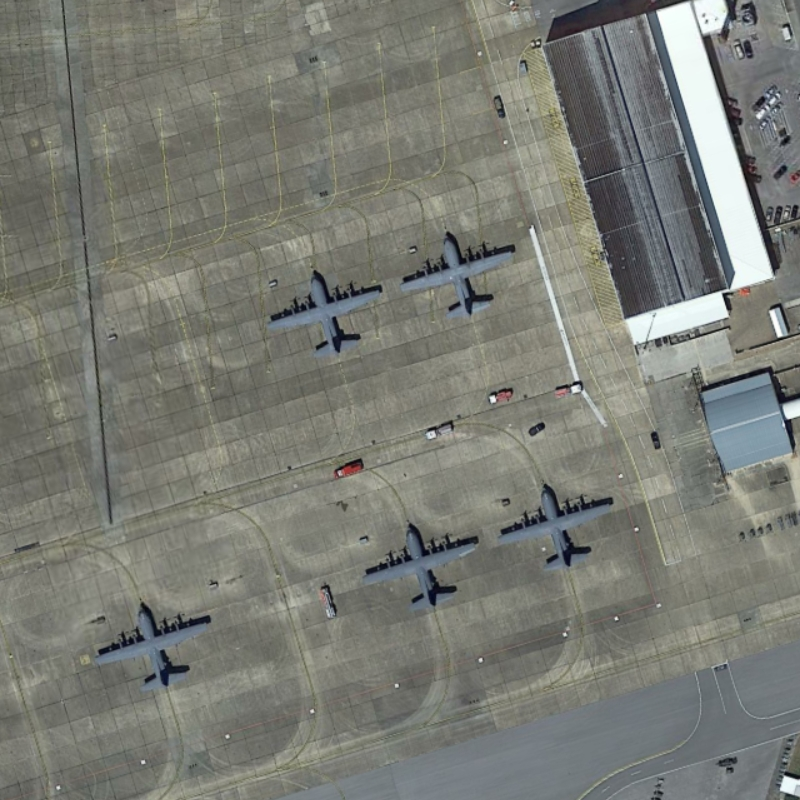A2: (357, 516, 482, 617), (88, 597, 213, 696), (496, 479, 617, 576), (261, 269, 388, 361), (395, 231, 518, 325)
